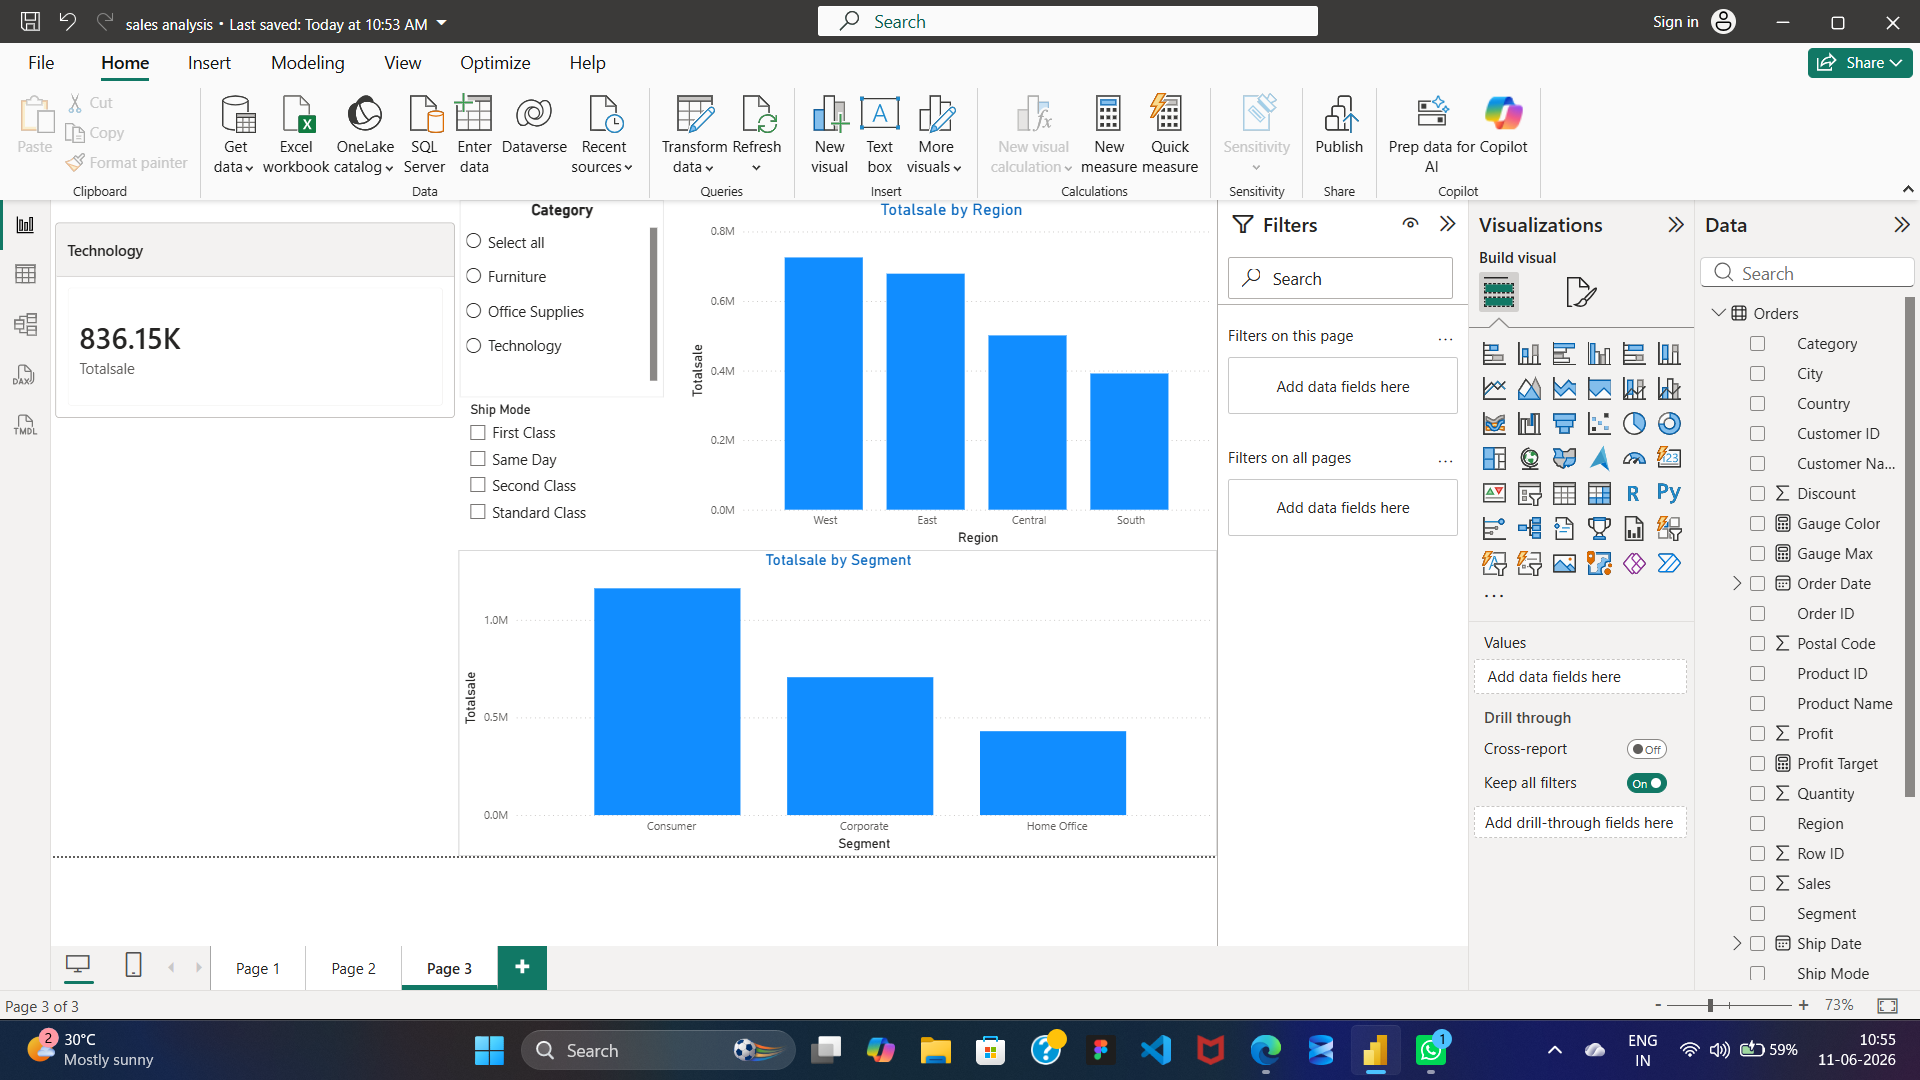

The page's visual inventory and layout, read from the dashboard file:
{"tool":"powerbi","page":{"name":"Page 3","canvas":[1280,720],"ordinal":2},"visuals":[{"type":"cardVisual","fields":{"Rows":["Orders.Category"],"Data":["Orders.Totalsale"]},"box":[0,0,448.7,264.8],"z":0},{"type":"columnChart","fields":{"Y":["Orders.Totalsale"],"Category":["Orders.Region"]},"box":[697,0,583.3,384],"z":1000},{"type":"clusteredColumnChart","fields":{"Y":["Orders.Totalsale"],"Category":["Orders.Segment"]},"box":[447.3,384.2,832.9,336.2],"z":2000},{"type":"listSlicer","fields":{"Values":["Orders.Category"]},"box":[448.7,0,223.7,216.8],"z":3000},{"type":"slicer","fields":{"Values":["Orders.Ship Mode"]},"box":[447.3,216.8,225,167.4],"z":4000}]}

Visuals, with their boxes on the page's 1280x720 design canvas (x1, y1, x2, y2). These are canvas units, not pixel positions in the 1920x1080 screenshot, which may show the page scaled, cropped or inside an application window:
cardVisual - Orders.Category x Orders.Totalsale: x1=0 y1=0 x2=449 y2=265
columnChart - Orders.Totalsale x Orders.Region: x1=697 y1=0 x2=1280 y2=384
clusteredColumnChart - Orders.Totalsale x Orders.Segment: x1=447 y1=384 x2=1280 y2=720
listSlicer - Orders.Category: x1=449 y1=0 x2=672 y2=217
slicer - Orders.Ship Mode: x1=447 y1=217 x2=672 y2=384
